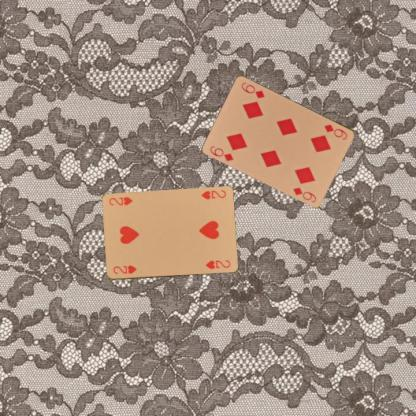2h: (198, 188, 227, 200), (110, 263, 138, 275)
6d: (322, 121, 349, 141), (207, 143, 234, 162)
